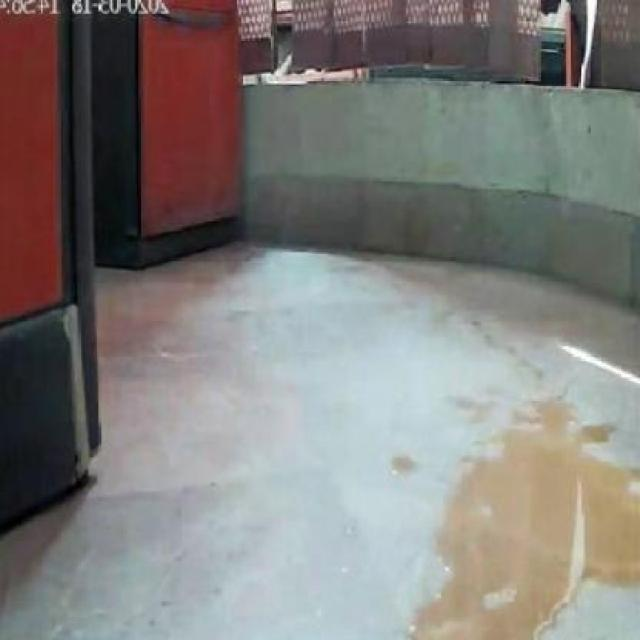spillage: (412, 401, 640, 640), (391, 456, 413, 475)
